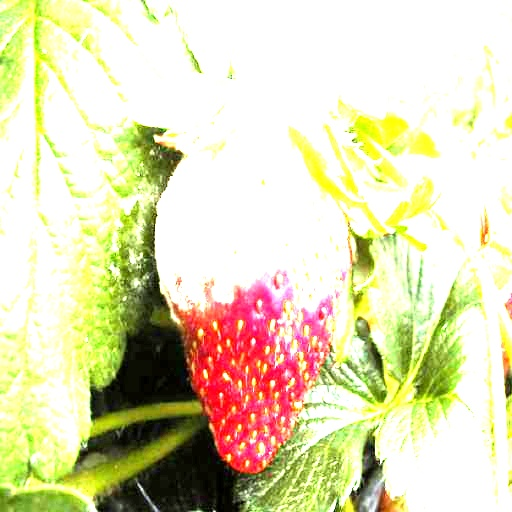Gray Mold: (153, 101, 349, 331)
